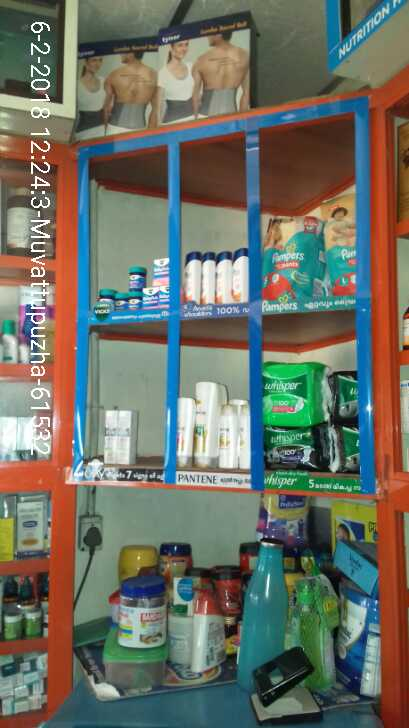vicks: (91, 255, 171, 314)
